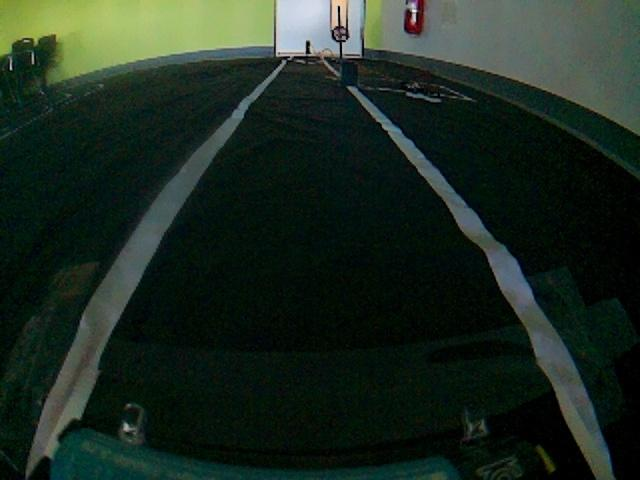go: (59, 68, 560, 326)
